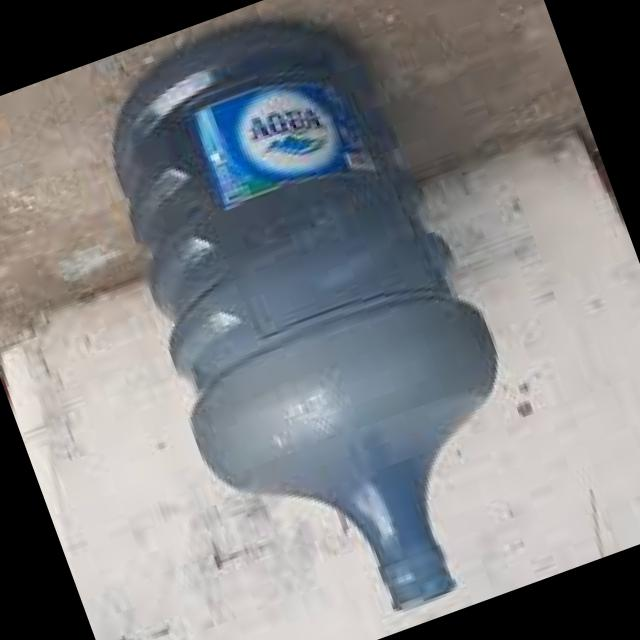Galon: (68, 0, 575, 640)
